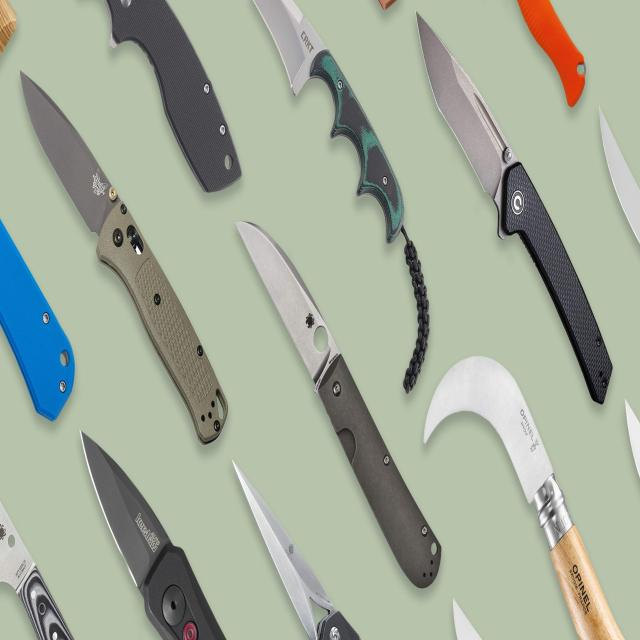Weapon: (416, 13, 612, 403), (21, 74, 224, 443), (238, 222, 439, 587)
